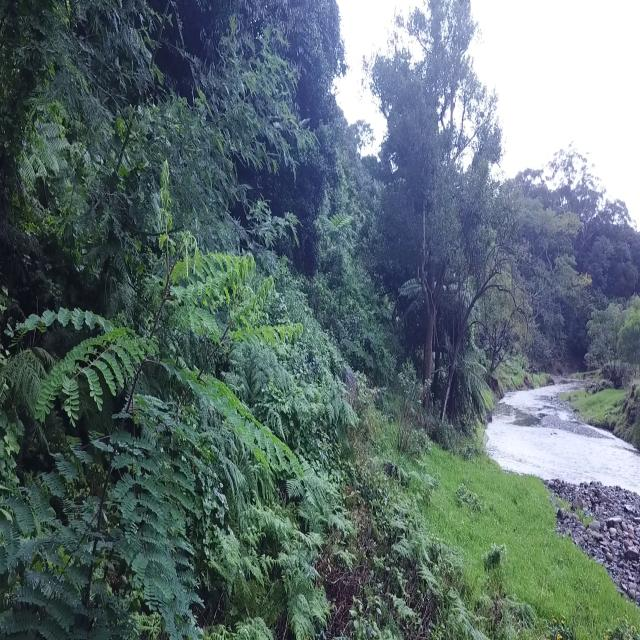Mysore-Thorn-Weed: (1, 237, 295, 640)
